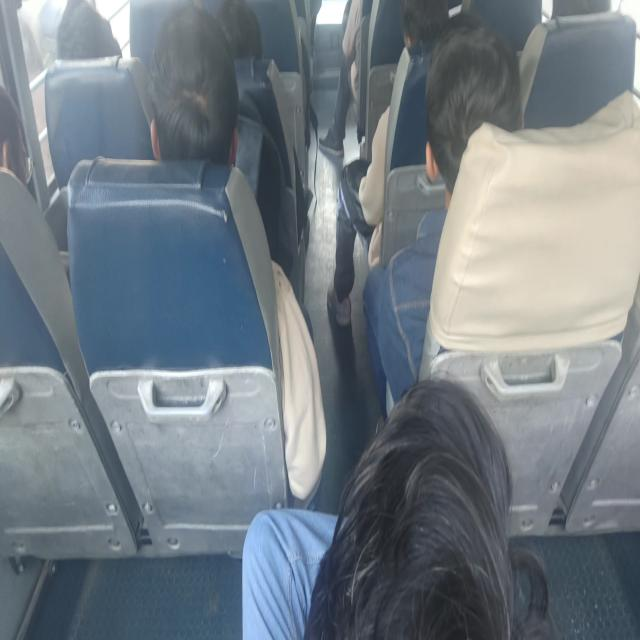person: (311, 375, 543, 640), (145, 23, 240, 169), (440, 48, 516, 198), (402, 0, 467, 65), (0, 77, 34, 190), (61, 0, 119, 64), (217, 0, 261, 65)
